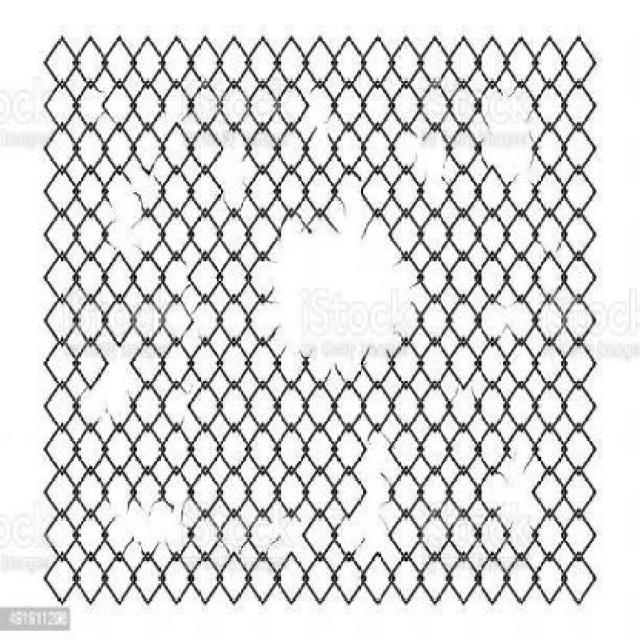fence line: (270, 190, 416, 370), (336, 424, 415, 565), (112, 492, 205, 566), (482, 77, 538, 185), (487, 446, 545, 546), (87, 336, 148, 421), (209, 117, 258, 198), (106, 190, 159, 259), (488, 296, 540, 347), (258, 514, 310, 558)
